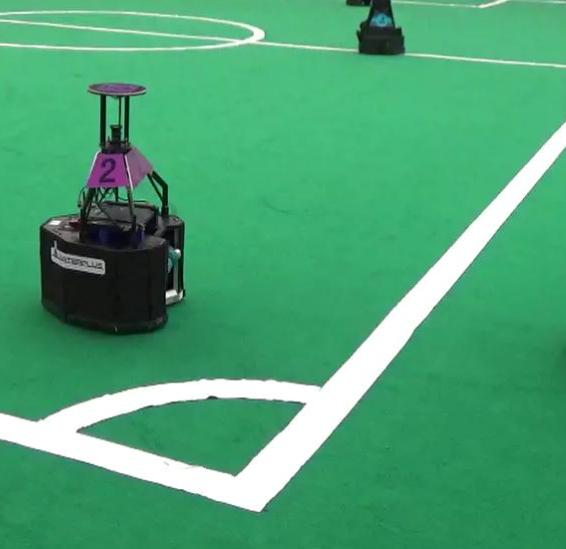robot: (37, 79, 191, 337)
